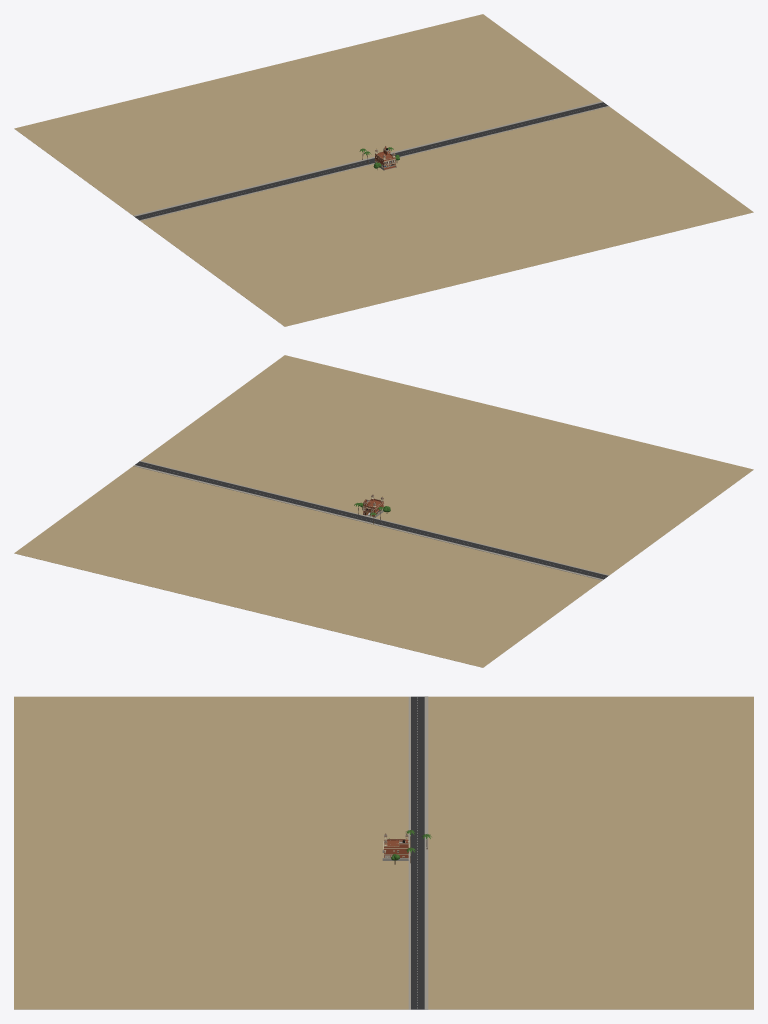
The model's file is home_hotel.glb.
3 views of the same model, one above another, from view 1: azimuth 30°, elevation 25°; view 2: azimuth 150°, elevation 25°; view 3: azimuth 270°, elevation 25° (orthographic). The views are drawn at different scales.
Visible parts, largest first — view 1: SITE__Earth, SITE__Asphalt, SITE__Concrete; view 2: SITE__Earth, SITE__Asphalt, SITE__Concrete; view 3: SITE__Earth, SITE__Asphalt, SITE__Concrete.
Part boxes in pixels (<box>): SITE__Earth: <box>14,14,753,326</box>; SITE__Asphalt: <box>135,102,608,220</box>; SITE__Concrete: <box>133,101,609,220</box>; SITE__Earth: <box>14,355,753,667</box>; SITE__Asphalt: <box>135,461,607,579</box>; SITE__Concrete: <box>133,460,609,580</box>; SITE__Earth: <box>14,696,753,1009</box>; SITE__Asphalt: <box>411,696,424,1009</box>; SITE__Concrete: <box>382,696,428,1009</box>.
Bounding box in the file's own units: 366 × 12.21 × 366.
